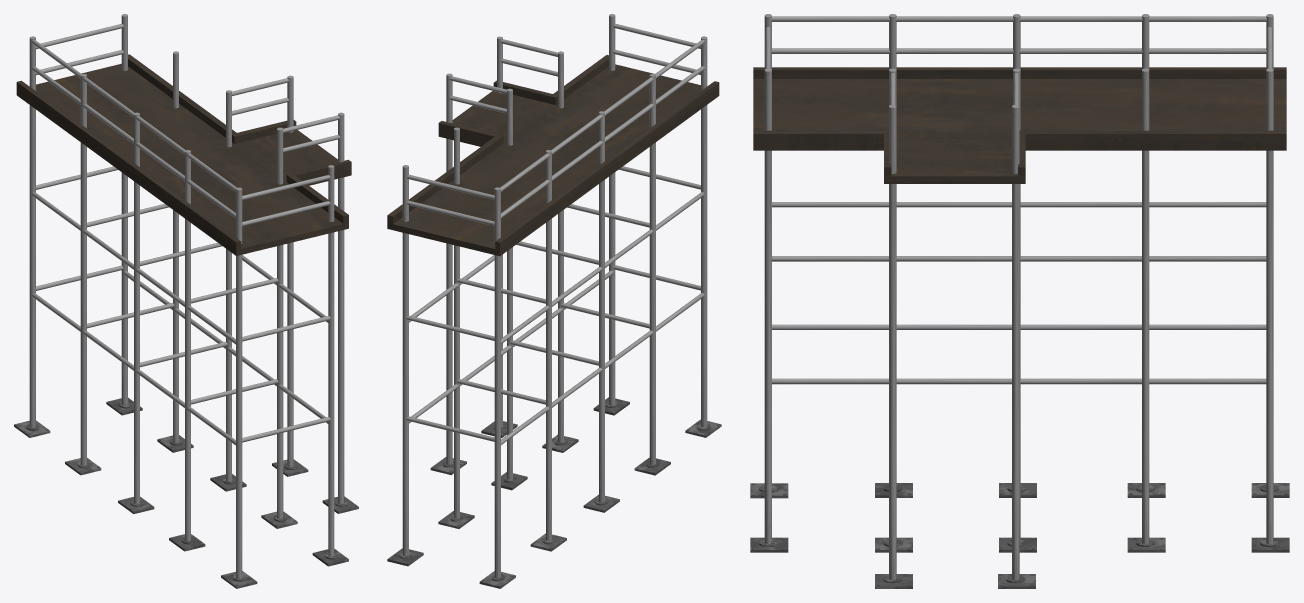
The model's file is Scaffolds.fbx.
3 views of the same model, side by side, from view 1: azimuth 30°, elevation 25°; view 2: azimuth 150°, elevation 25°; view 3: azimuth 270°, elevation 25° (orthographic). The views are drawn at different scales.
Parts seen in each view (by area): view 1: Scaffold; view 2: Scaffold; view 3: Scaffold.
Boxes of the visible parts, x1,y1,x2,y2 form: Scaffold: (14,14,358,588); Scaffold: (387,14,721,588); Scaffold: (750,14,1289,588).
Size of the model in its own units: 342 by 735 by 754.
1 material, 1 textured.
